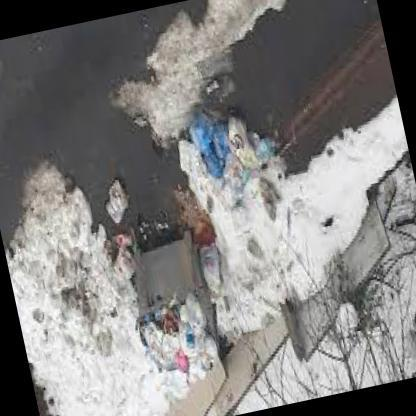Garbage: (169, 98, 284, 214), (143, 308, 216, 388), (164, 312, 208, 364), (173, 132, 209, 192), (218, 117, 255, 173), (154, 318, 188, 372), (109, 233, 140, 292), (201, 243, 232, 294), (102, 187, 136, 231), (200, 142, 228, 191), (105, 172, 137, 213), (172, 354, 192, 375)
